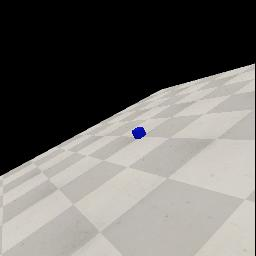box: (132, 127, 146, 139)
